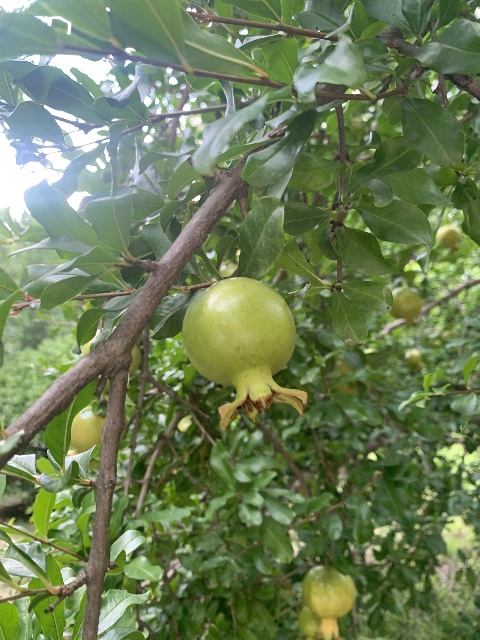mid-growth: (181, 276, 308, 432), (300, 565, 356, 639), (66, 405, 105, 468), (390, 287, 422, 328), (435, 224, 461, 251), (404, 348, 423, 370)
